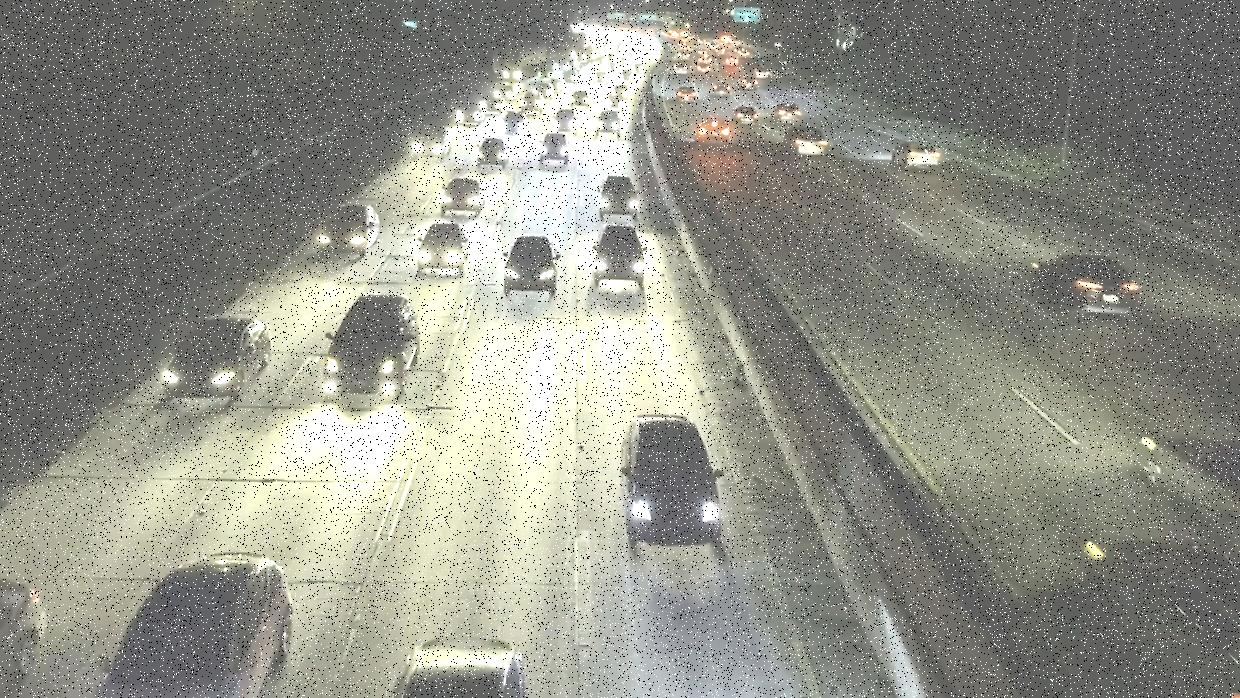car: (90, 545, 298, 698), (618, 411, 724, 559), (1133, 422, 1240, 540), (322, 291, 424, 402), (162, 316, 269, 403), (1020, 255, 1144, 322), (396, 637, 532, 697), (0, 571, 48, 698), (500, 233, 565, 298), (589, 223, 650, 287), (316, 206, 381, 257), (417, 223, 471, 278), (595, 175, 642, 221), (438, 176, 490, 214), (891, 138, 946, 169), (781, 126, 828, 156), (476, 135, 510, 168), (539, 132, 571, 166), (698, 117, 730, 146), (770, 100, 803, 122), (730, 105, 760, 126)
